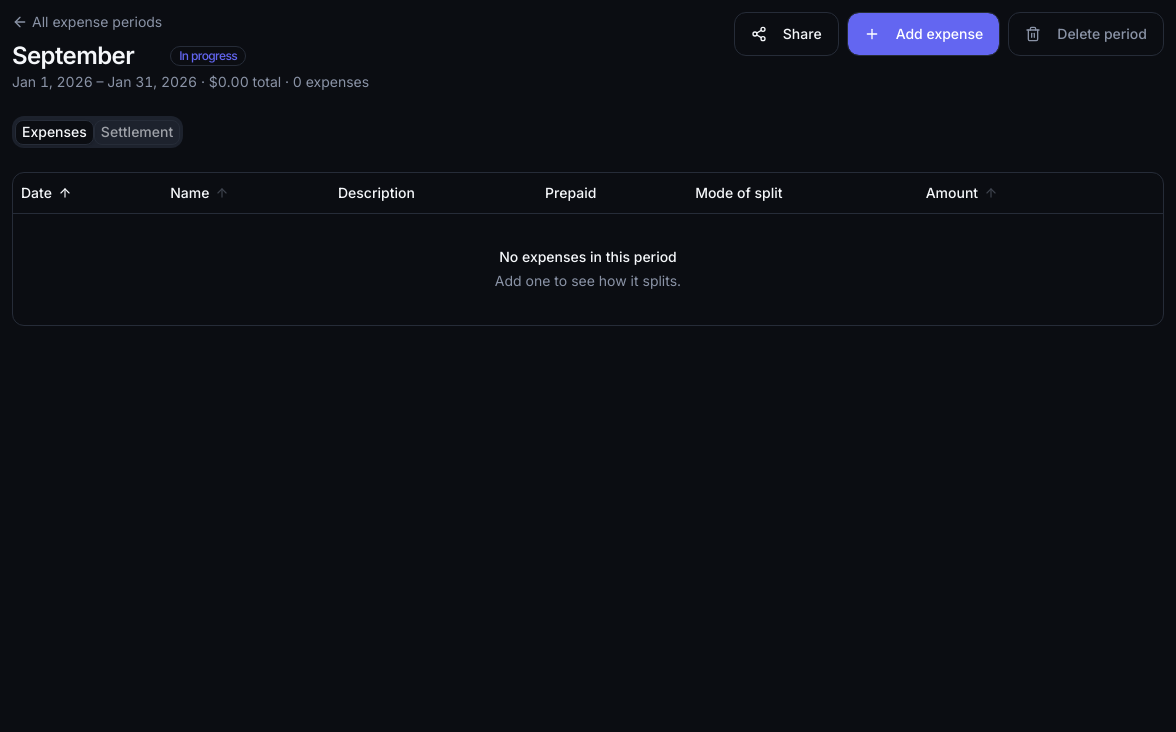
it: checklist: expenses › hides every split control when an expense is marked prepaid
What coordinates should you click on to do the following:
click the button "Add expense"
I would click on:
 (923, 34)
Its box is [847,12,1000,56].
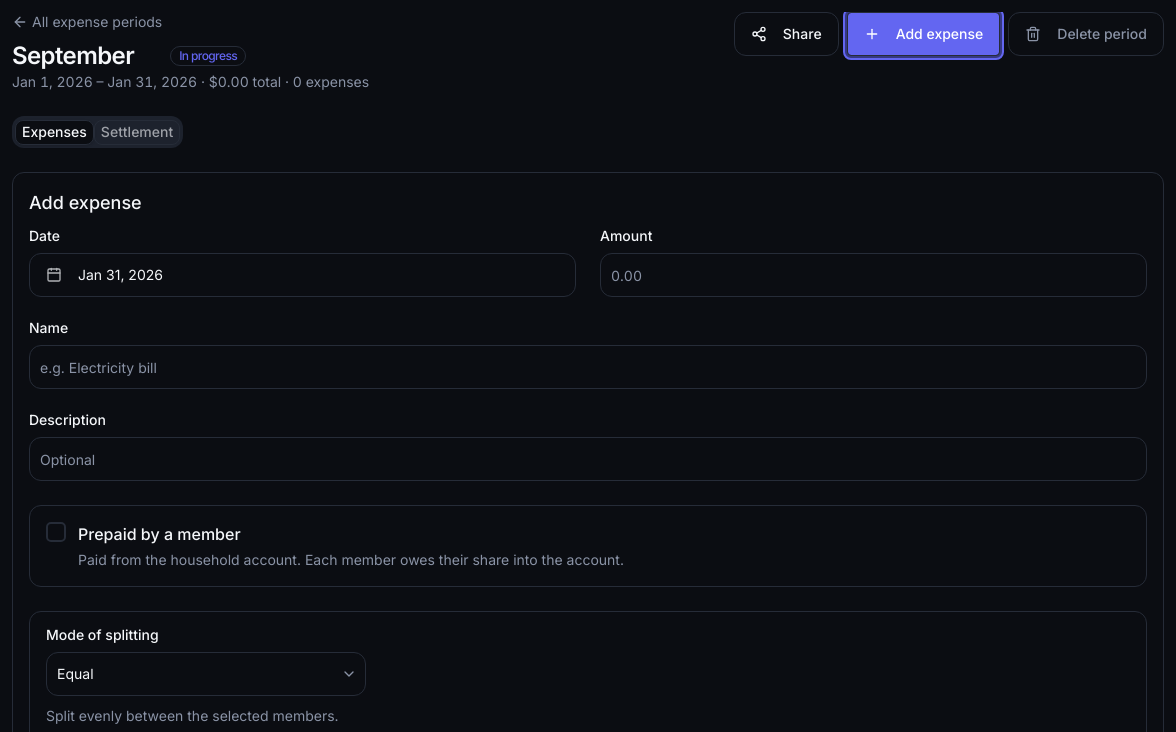
Now the field labelled "Name" is shown, box [29,345,1147,389]
Now the dropdown named "mode of splitting" is shown, box [46,652,366,696]
What coordinates should you click on to do the following:
click the checkbox named "prepaid by a member"
I would click on:
 (56, 532)
Its box is [46,522,66,542].
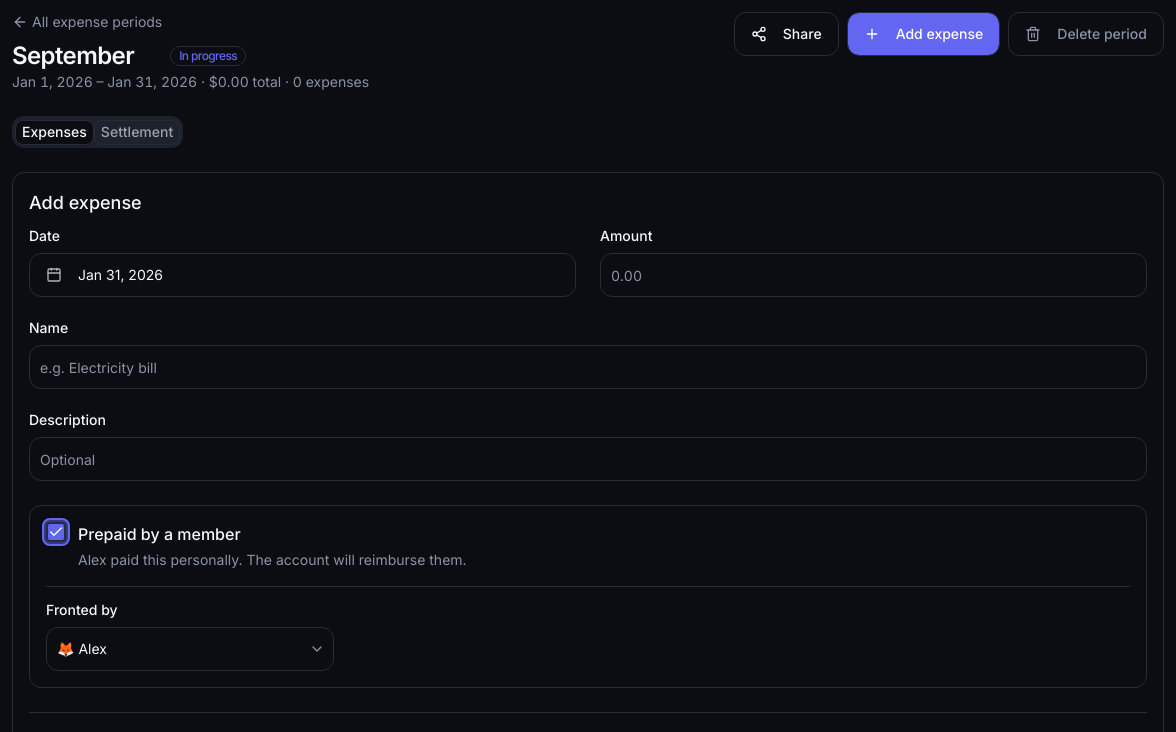
Now the dropdown named "fronted by" is shown, box [46,627,334,671]
Now the label "Mode of splitting" is gone
